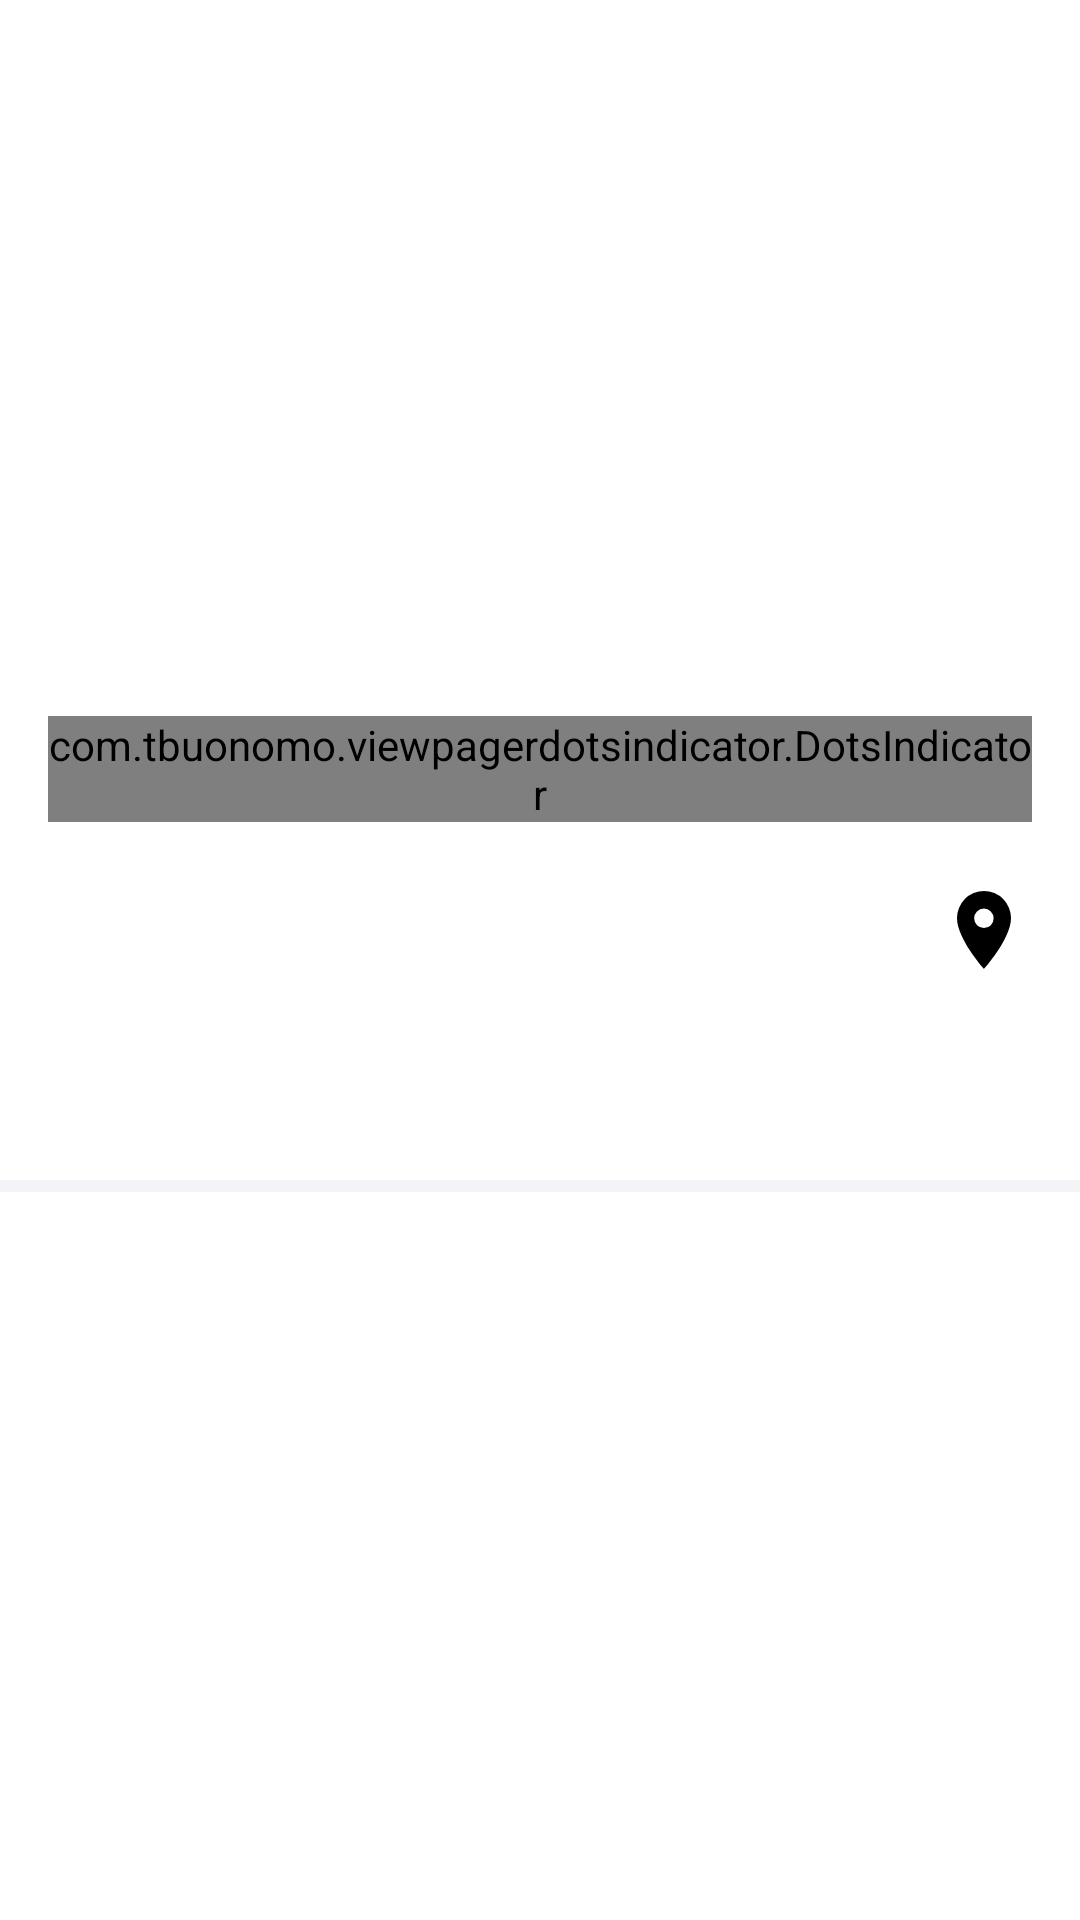

Icon bounding boxes for this 1080px x 1920px phone screenshot, format region(x1, y1, x2, y2):
location: region(957, 891, 1011, 969)
